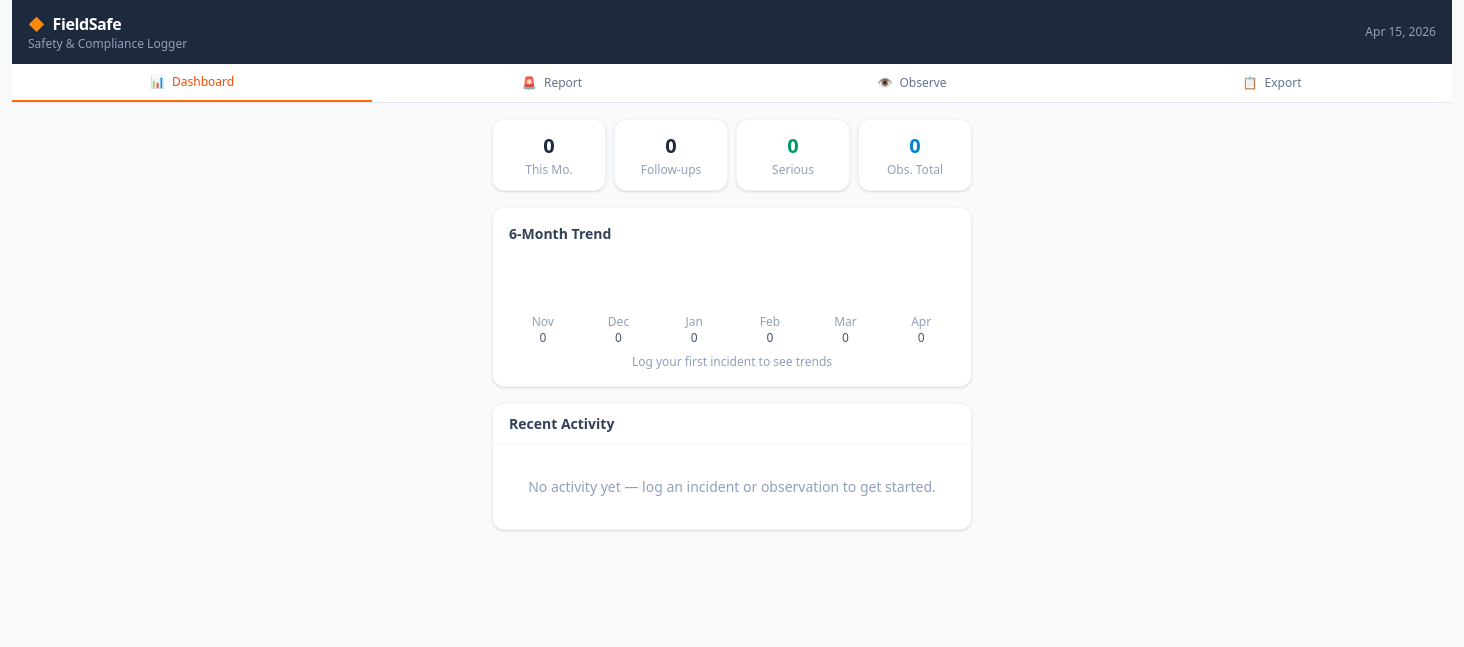
Scenario: Smoke test › can navigate between all tabs without errors
Click the button "🚨 Report".
click(552, 83)  # box [372, 64, 732, 102]
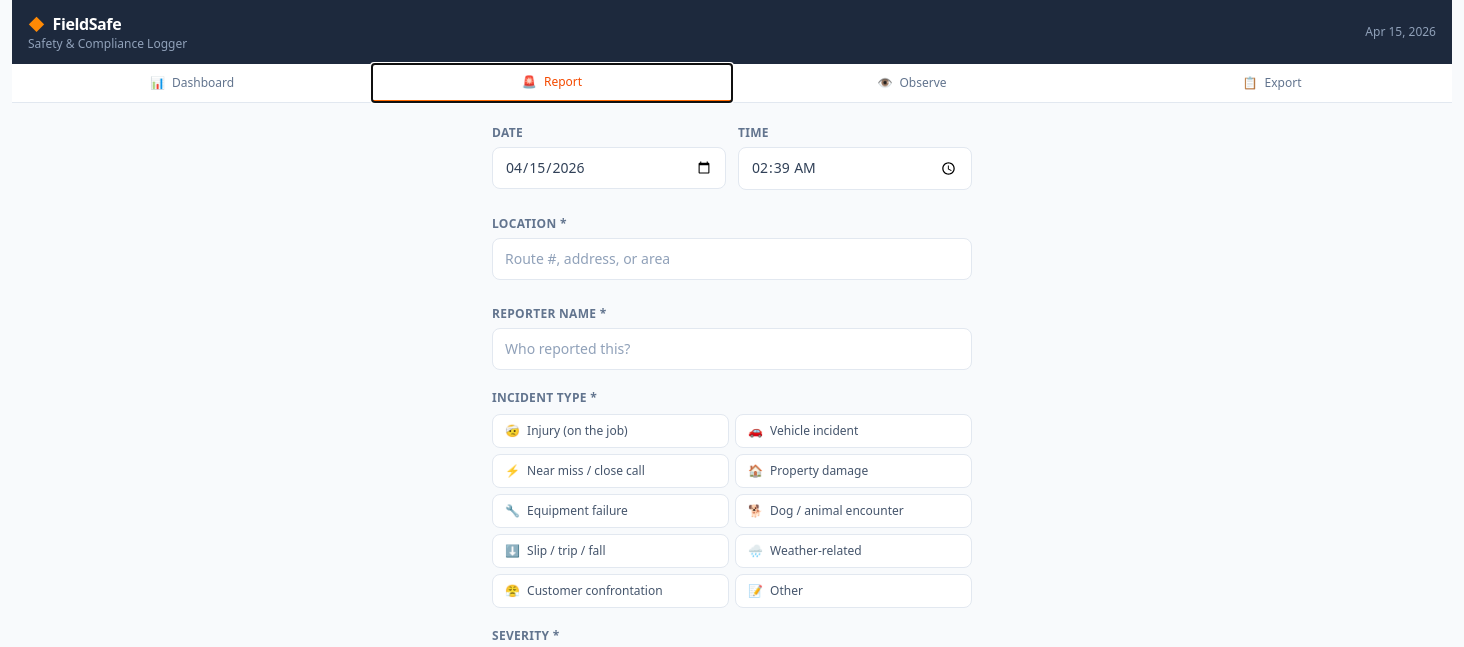
Click the button "👁️ Observe".
click(912, 83)  # box [732, 64, 1092, 102]
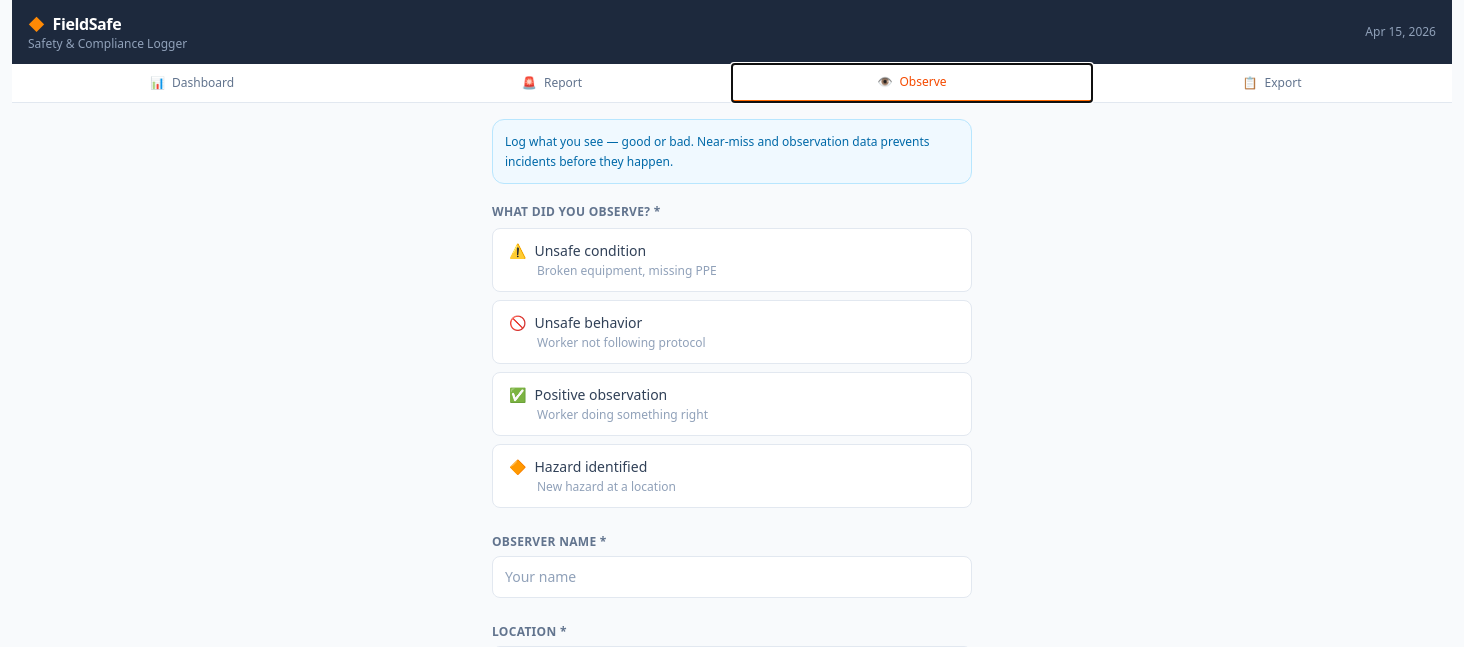
Click the button "📋 Export".
click(1272, 83)  # box [1092, 64, 1452, 102]
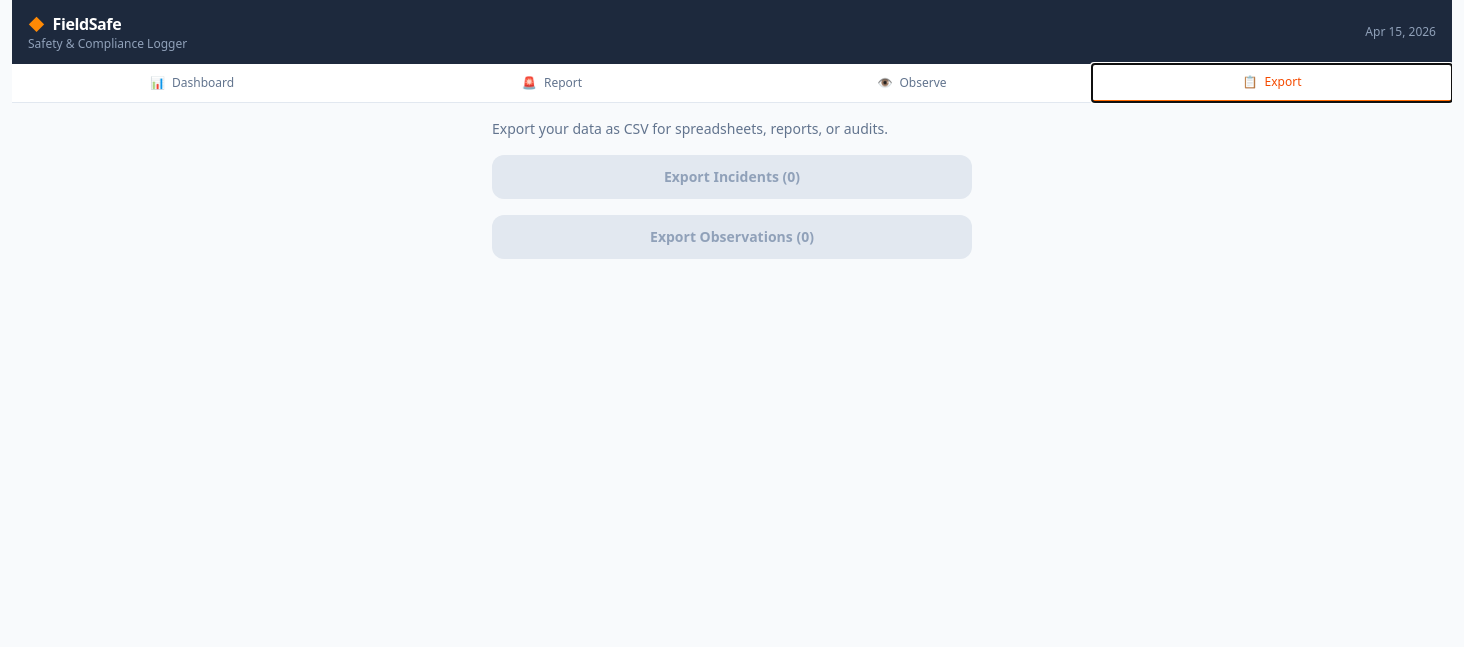
Expected: the text "Export your data as CSV" is shown, [492, 119, 888, 138]
Click the button "📊 Dashboard".
click(192, 83)  # box [12, 64, 372, 102]
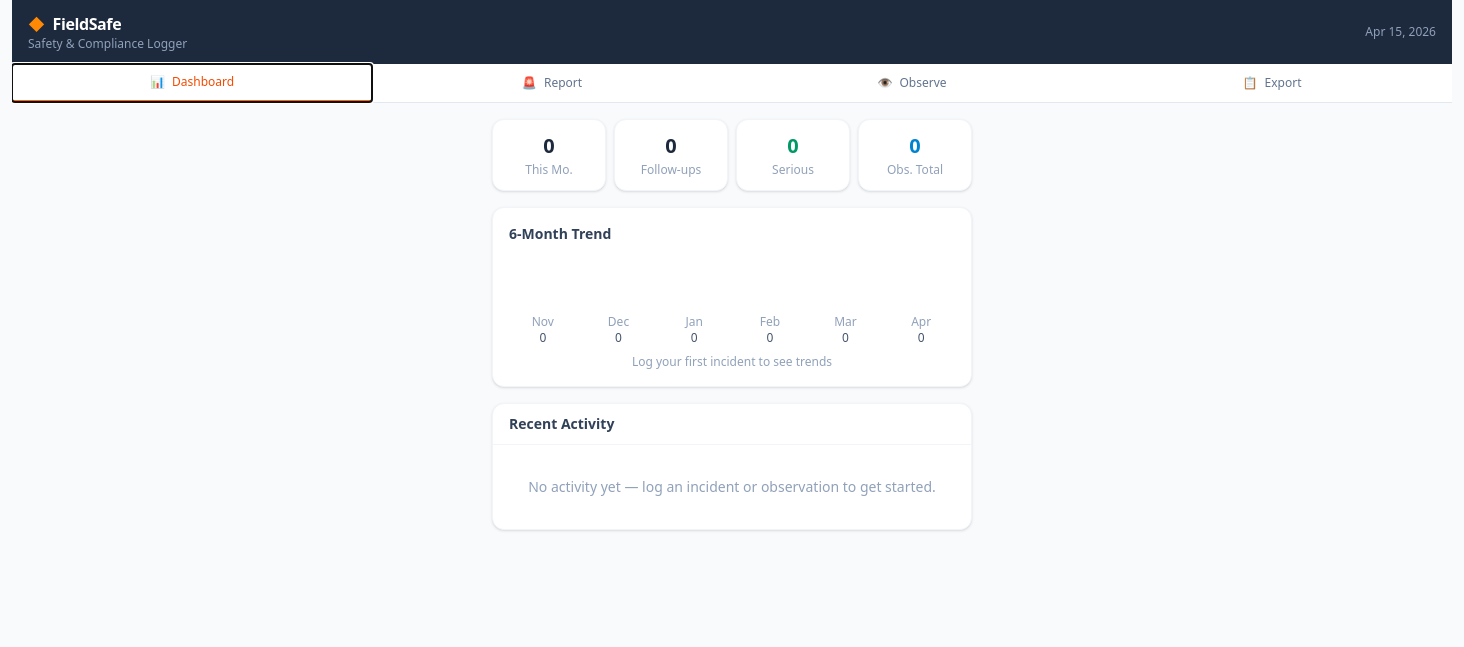
Expected: the heading "6-Month Trend" is shown, [509, 224, 611, 243]
